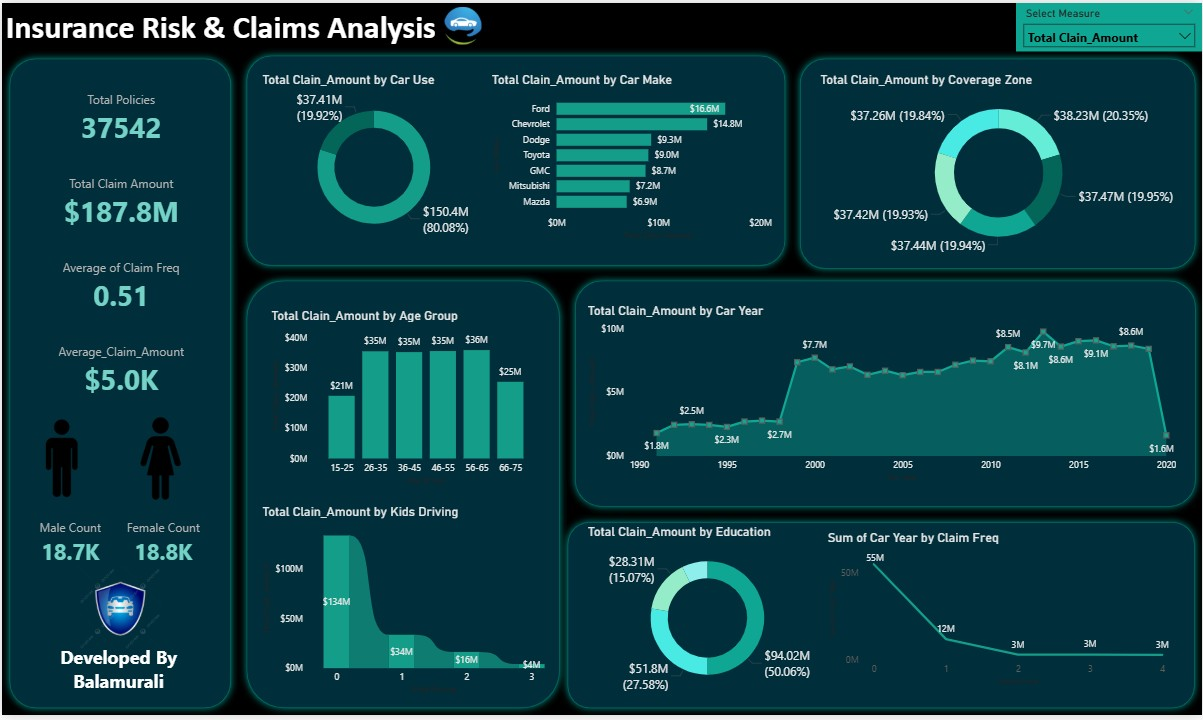

This screenshot's page, from the dashboard's own definition file:
{"tool":"powerbi","page":{"name":"Page 1","canvas":[1600,950],"ordinal":0},"visuals":[{"type":"textbox","box":[0,0,1360.6,92.3],"z":0},{"type":"shape","box":[0,64.4,315.5,886.4],"z":1000},{"type":"cardVisual","fields":{"Data":["Insurance Data.Total Policies","Insurance Data.Total Clain_Amount","Avg(Insurance Data.Claim Freq)","Insurance Data.Average_Claim_Amount"]},"box":[23.6,92.3,270.4,459.3],"z":2000},{"type":"cardVisual","fields":{"Data":["Insurance Data.Male Count","Insurance Data.Female Count"]},"box":[23.6,663.2,259.7,109.5],"z":3000},{"type":"image","box":[0,549.4,158.8,113.7],"z":4000},{"type":"image","box":[105.2,532.2,210.3,150.2],"z":5000},{"type":"slicer","fields":{"Values":["Select Measure.Select Measure"]},"box":[1352.1,0,249,64.4],"z":6000},{"type":"shape","box":[315.5,60.1,738.3,300.5],"z":7000},{"type":"donutChart","fields":{"Y":["Insurance Data.Total Clain_Amount"],"Category":["Insurance Data.Car Use"]},"box":[341.2,92.3,306.9,233.9],"z":8000},{"type":"clusteredBarChart","fields":{"Y":["Insurance Data.Total Clain_Amount"],"Category":["Insurance Data.Car Make"]},"box":[648.1,92.3,384.2,227.5],"z":9000},{"type":"shape","box":[1053.8,64.4,547.3,300.5],"z":10000},{"type":"donutChart","fields":{"Y":["Insurance Data.Total Clain_Amount"],"Category":["Insurance Data.Coverage Zone"]},"box":[1085.9,92.3,485,249],"z":11000},{"type":"shape","box":[315.5,360.6,437.8,590.2],"z":12000},{"type":"columnChart","fields":{"Y":["Insurance Data.Total Clain_Amount"],"Category":["Insurance Data.Age Group"]},"box":[354.1,405.6,365,240],"z":13000},{"type":"ribbonChart","fields":{"Y":["Insurance Data.Total Clain_Amount"],"Category":["Insurance Data.Kids Driving"]},"box":[341.2,667.4,403.5,257.5],"z":14000},{"type":"shape","box":[753.3,360.6,847.7,321.9],"z":15000},{"type":"areaChart","fields":{"Y":["Insurance Data.Total Clain_Amount"],"Category":["Insurance Data.Car Year"]},"box":[776.9,399.2,794.1,242.5],"z":16000},{"type":"textbox","box":[62.2,849.9,186.7,81.6],"z":17000},{"type":"shape","box":[744.7,682.5,856.3,268.3],"z":18000},{"type":"pieChart","fields":{"Y":["Insurance Data.Total Clain_Amount"],"Category":["Insurance Data.Education"]},"box":[776.9,693.2,328.4,231.8],"z":19000},{"type":"lineChart","fields":{"Category":["Insurance Data.Claim Freq"],"Y":["Sum(Insurance Data.Car Year)"]},"box":[1096.7,701.8,465.7,212.5],"z":20000},{"type":"image","box":[564.4,0,100.9,60.1],"z":21000},{"type":"image","box":[92.3,742.6,130.9,130.9],"z":22000}]}

Visuals, with their boxes in screenshot pixels (x1, y1, x2, y2), scaled from the page's 1600x950 canvas onto the 1203x720 screenshot:
textbox: Rect(0, 0, 1023, 70)
shape: Rect(0, 49, 237, 719)
cardVisual - Insurance Data.Total Policies x Insurance Data.Total Clain_Amount: Rect(18, 70, 221, 418)
cardVisual - Insurance Data.Male Count x Insurance Data.Female Count: Rect(18, 503, 213, 586)
image: Rect(0, 416, 119, 503)
image: Rect(79, 403, 237, 517)
slicer - Select Measure.Select Measure: Rect(1017, 0, 1202, 49)
shape: Rect(237, 46, 792, 273)
donutChart - Insurance Data.Total Clain_Amount x Insurance Data.Car Use: Rect(257, 70, 487, 247)
clusteredBarChart - Insurance Data.Total Clain_Amount x Insurance Data.Car Make: Rect(487, 70, 776, 242)
shape: Rect(792, 49, 1202, 277)
donutChart - Insurance Data.Total Clain_Amount x Insurance Data.Coverage Zone: Rect(816, 70, 1181, 259)
shape: Rect(237, 273, 566, 719)
columnChart - Insurance Data.Total Clain_Amount x Insurance Data.Age Group: Rect(266, 307, 541, 489)
ribbonChart - Insurance Data.Total Clain_Amount x Insurance Data.Kids Driving: Rect(257, 506, 560, 701)
shape: Rect(566, 273, 1202, 517)
areaChart - Insurance Data.Total Clain_Amount x Insurance Data.Car Year: Rect(584, 303, 1181, 486)
textbox: Rect(47, 644, 187, 706)
shape: Rect(560, 517, 1202, 719)
pieChart - Insurance Data.Total Clain_Amount x Insurance Data.Education: Rect(584, 525, 831, 701)
lineChart - Insurance Data.Claim Freq x Sum(Insurance Data.Car Year): Rect(825, 532, 1175, 693)
image: Rect(424, 0, 500, 46)
image: Rect(69, 563, 168, 662)
